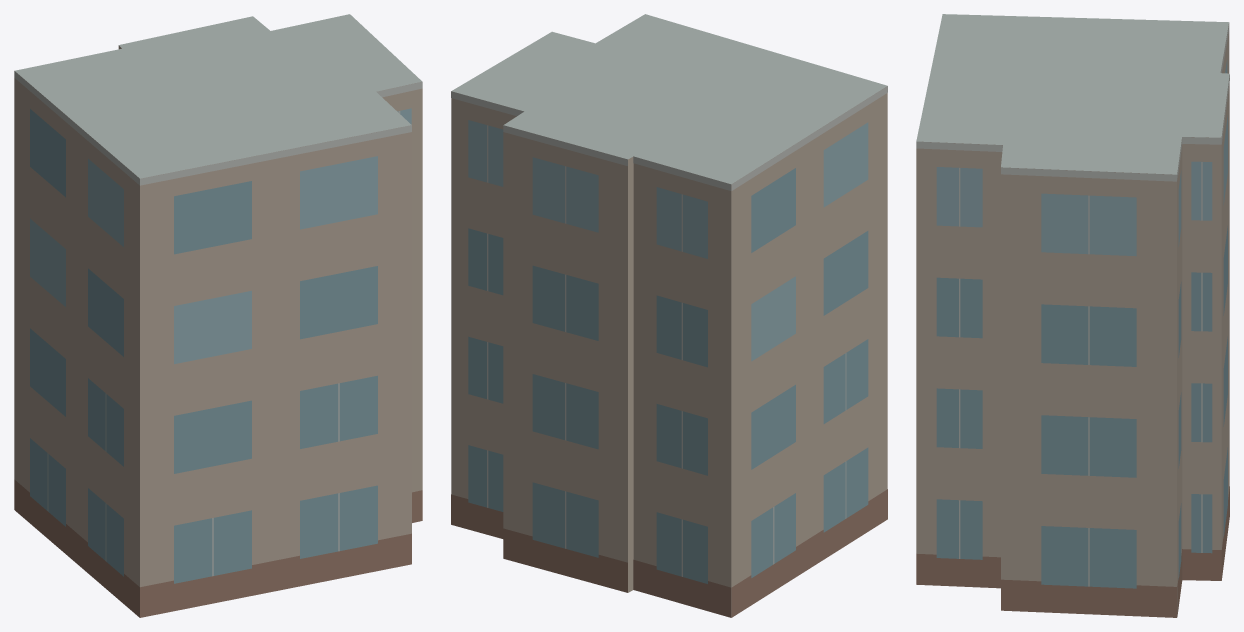
File: survey-upis-32463450.glb
3 renders of one model, left to right at view 1: azimuth 30°, elevation 25°; view 2: azimuth 150°, elevation 25°; view 3: azimuth 270°, elevation 25°, orthographic. The views are drawn at different scales.
Parts seen in each view (by area): view 1: survey-upis-32463450.tmp; view 2: survey-upis-32463450.tmp; view 3: survey-upis-32463450.tmp.
Boxes of the visible parts, x1,y1,x2,y2 form: survey-upis-32463450.tmp: [14, 14, 422, 617]; survey-upis-32463450.tmp: [451, 14, 887, 617]; survey-upis-32463450.tmp: [916, 14, 1229, 617].
Size of the model in its own units: 11.98 by 15.4 by 9.88.
